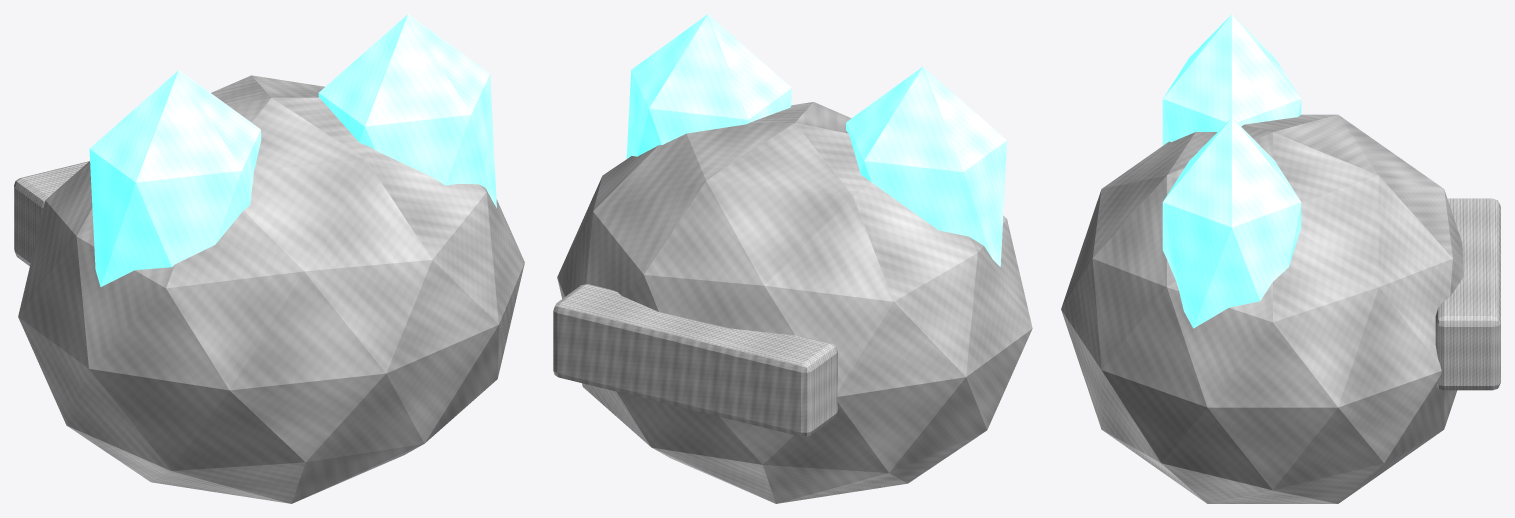
File: item-alien-protein_variant_d.glb
The picture shows the model from 3 angles, left to right: view 1: azimuth 30°, elevation 25°; view 2: azimuth 150°, elevation 25°; view 3: azimuth 270°, elevation 25°; orthographic projection. The views are drawn at different scales.
Parts seen in each view (by area): view 1: Organic item.003, Organic detail.006, Organic detail.007, Variant modular rail; view 2: Organic item.003, Variant modular rail, Organic detail.006, Organic detail.007; view 3: Organic item.003, Organic detail.007, Organic detail.006, Variant modular rail.
Part boxes in pixels (<box>): Organic item.003: <box>18,75,524,503</box>; Organic detail.006: <box>89,70,261,286</box>; Organic detail.007: <box>318,14,496,207</box>; Variant modular rail: <box>14,161,88,266</box>; Organic item.003: <box>557,102,1032,503</box>; Variant modular rail: <box>553,284,837,436</box>; Organic detail.006: <box>845,66,1006,266</box>; Organic detail.007: <box>626,14,791,158</box>; Organic item.003: <box>1061,114,1463,503</box>; Organic detail.007: <box>1162,117,1301,328</box>; Organic detail.006: <box>1162,14,1301,145</box>; Variant modular rail: <box>1435,198,1500,390</box>.
Size of what is drawn, in the model's own units: 0.5706 by 0.57 by 0.54.
Materials: 3 (3 with a texture image).
